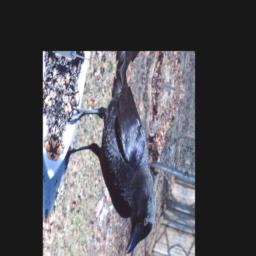Crow: (56, 55, 169, 256)
